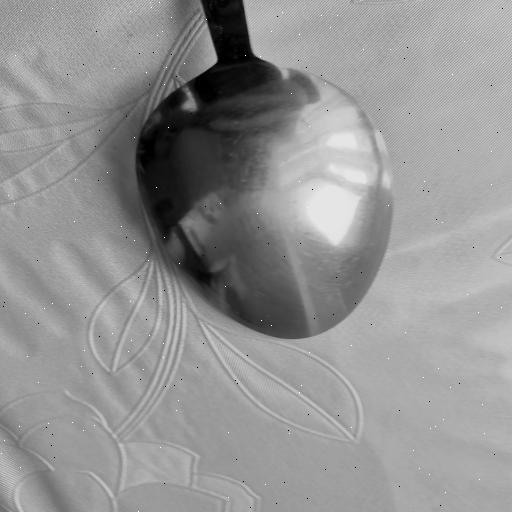spoon: (133, 0, 384, 340)
